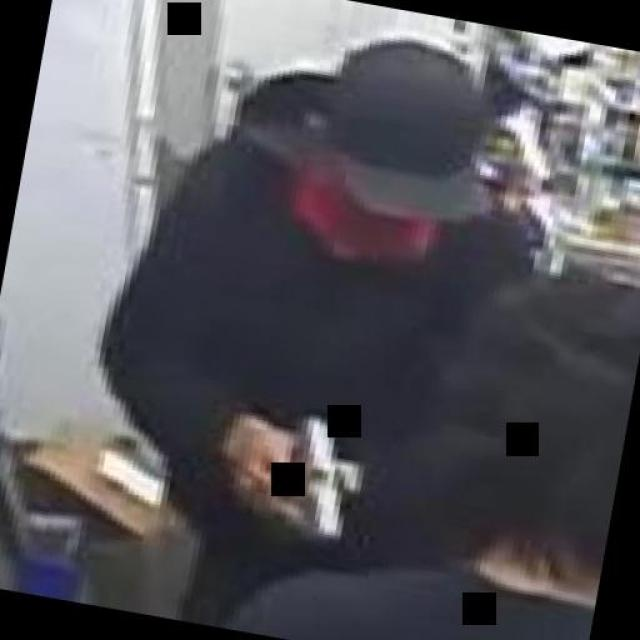gun: (232, 401, 362, 540)
